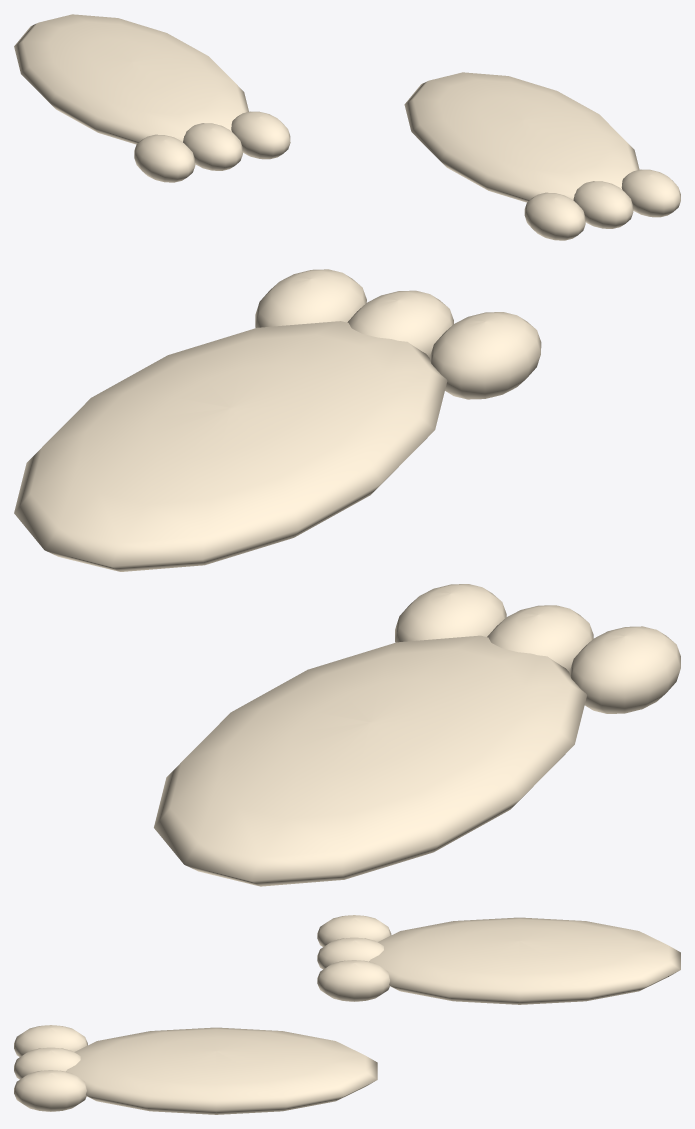
File: tile_foot_mark.glb
3 renders of one model, top to bottom at view 1: azimuth 30°, elevation 25°; view 2: azimuth 150°, elevation 25°; view 3: azimuth 270°, elevation 25°, orthographic. The views are drawn at different scales.
Visible parts, largest first — view 1: model; view 2: model; view 3: model.
Part boxes in pixels (box(x1,y1,x2,y2)): model: box(14, 14, 680, 240); model: box(14, 269, 680, 886); model: box(14, 915, 680, 1114).
Size of the model in its own units: 0.3 by 0.03 by 0.45.
